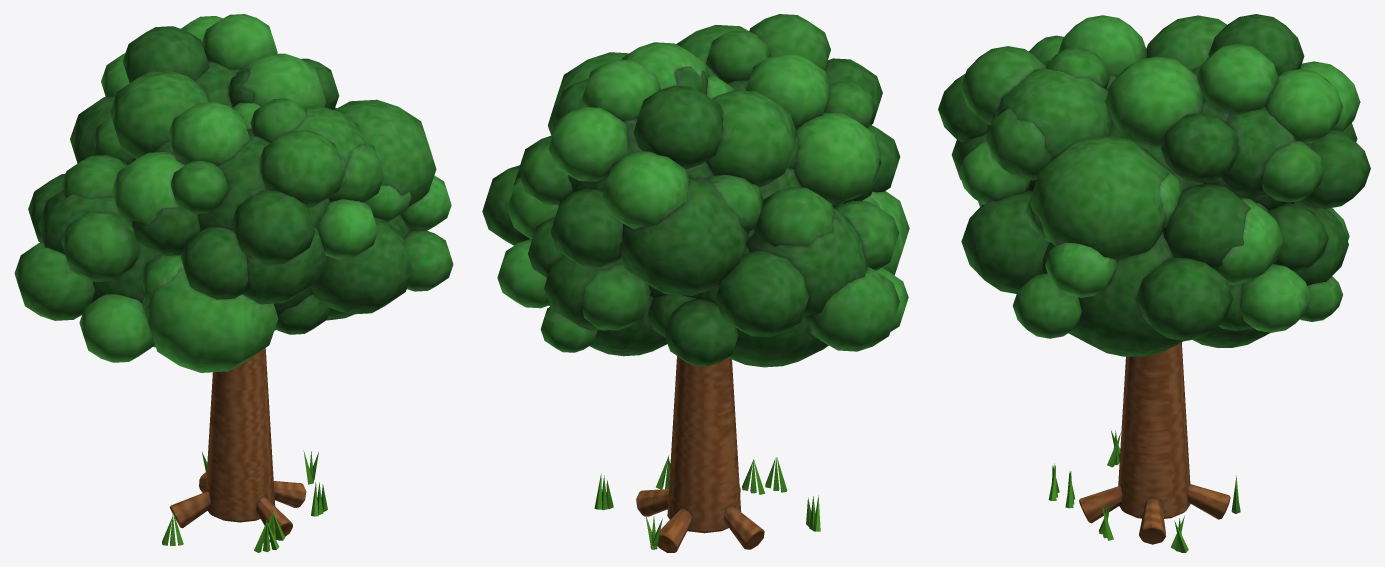
Rendered from plum_tree.glb.
The picture shows the model from 3 angles, left to right: view 1: azimuth 30°, elevation 25°; view 2: azimuth 150°, elevation 25°; view 3: azimuth 270°, elevation 25°; orthographic projection. The views are drawn at different scales.
Visible parts, largest first — view 1: crown, plum_tree; view 2: crown, plum_tree; view 3: crown, plum_tree.
Part boxes in pixels (x1,y1,x2,y2): crown: [14, 14, 453, 372]; plum_tree: [162, 348, 327, 552]; crown: [482, 14, 909, 367]; plum_tree: [594, 356, 820, 552]; crown: [938, 14, 1370, 356]; plum_tree: [1048, 342, 1240, 552].
Bounding box in the file's own units: 1.15 × 1.3 × 1.04.
Materials: 1 (1 with a texture image).
